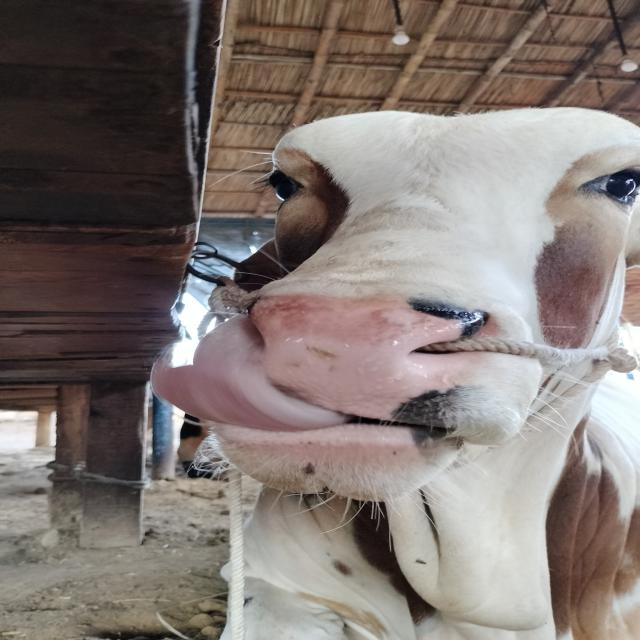muzzles: (200, 290, 517, 442)
